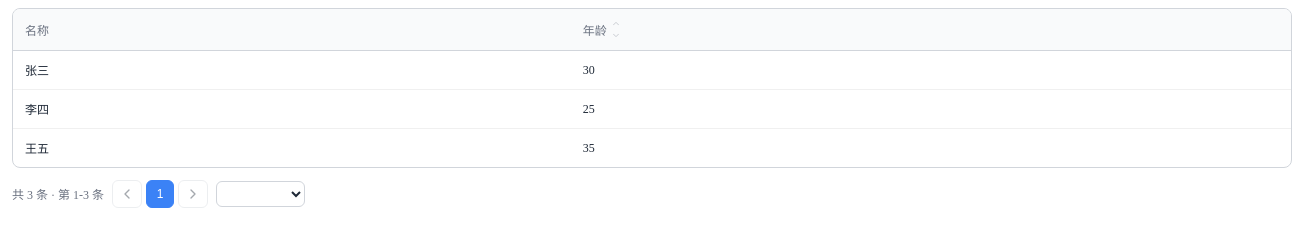
Test: MacDataTable（Svelte 版） › 排序：点击表头切换 asc/desc/取消并派发事件
The image size is (1292, 225).
Click the column heading with class "sortable". click: point(931, 30)
box: [571,9,1291,50]
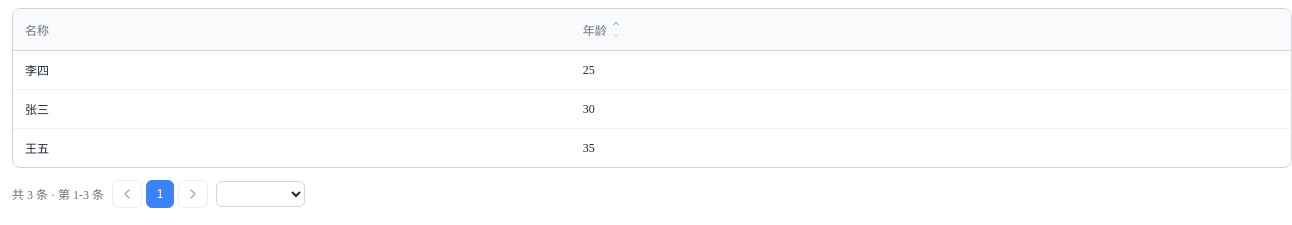
Now the row "李四 25" is shown, box [13,50,1291,90]
Click the column heading with class "sortable". click: point(931, 30)
box: [571,9,1291,50]
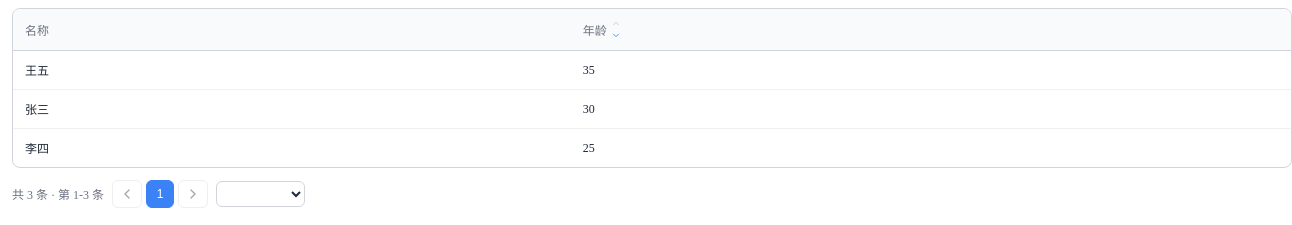
Now the row "王五 35" is shown, box [13,50,1291,90]
Click the column heading with class "sortable". click: point(931, 30)
box: [571,9,1291,50]
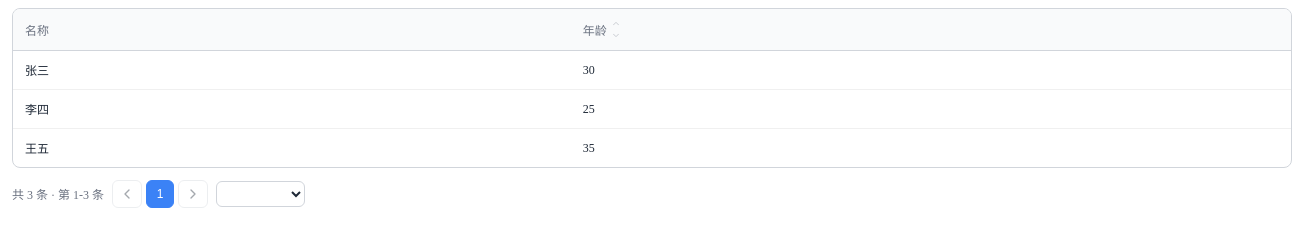
Now the row "张三 30" is shown, box [13,50,1291,90]
